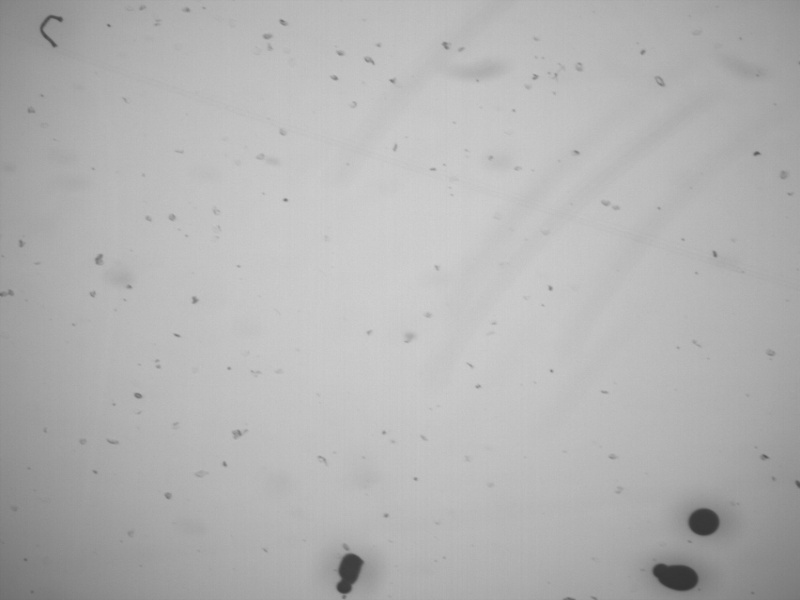bead: (687, 505, 722, 538), (335, 578, 355, 596), (652, 561, 668, 579)
fiber: (37, 12, 64, 50)
